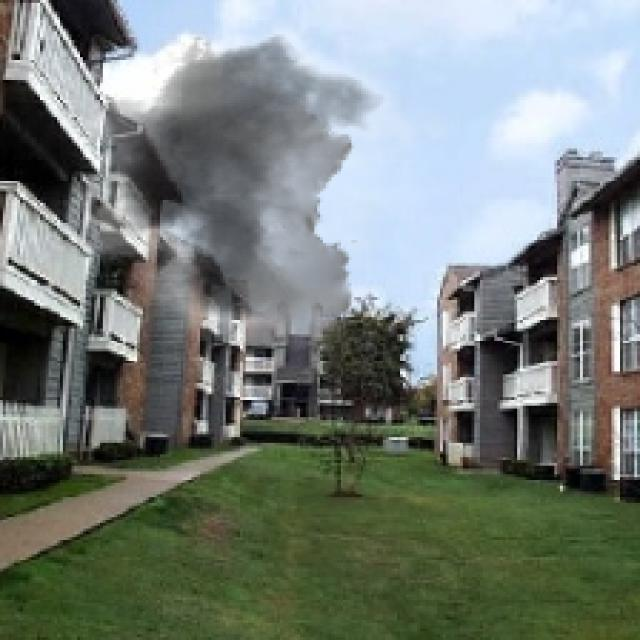smoke: (48, 6, 463, 351)
